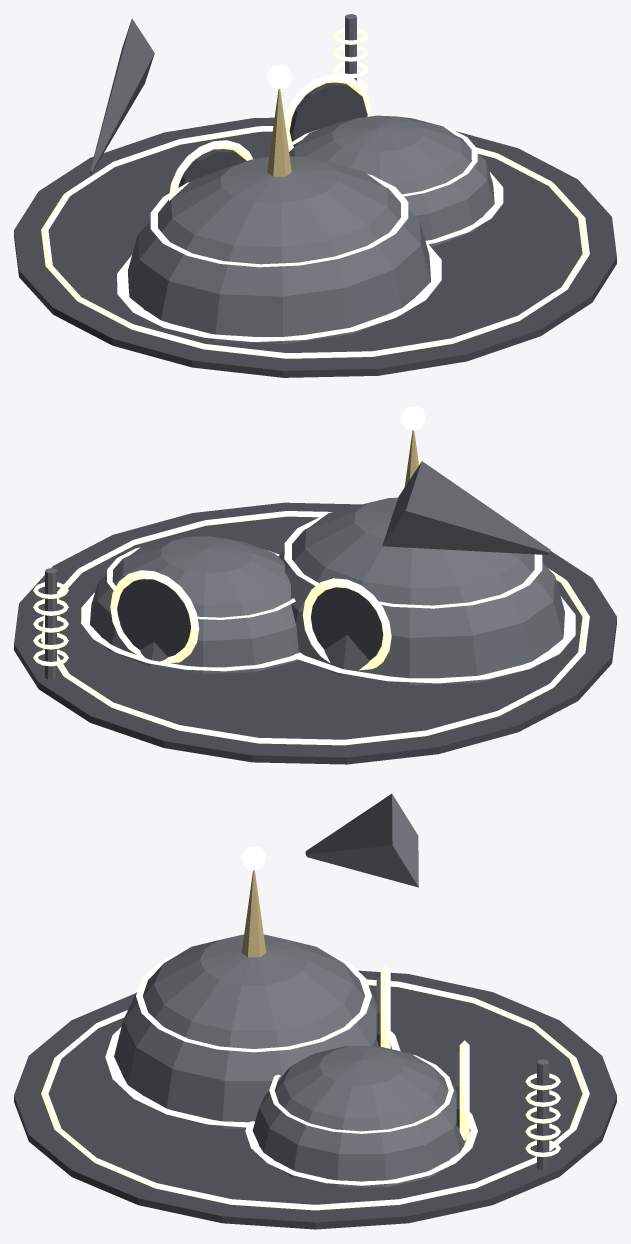
Rendered from zone_low_4_t5.glb.
The picture shows the model from 3 angles, top to bottom: view 1: azimuth 30°, elevation 25°; view 2: azimuth 150°, elevation 25°; view 3: azimuth 270°, elevation 25°; orthographic projection.
Parts seen in each view (by area): view 1: zone_low_4_t5, detail; view 2: zone_low_4_t5, detail; view 3: zone_low_4_t5, detail.
Boxes of the visible parts, x1,y1,x2,y2 form: zone_low_4_t5: (14,18,616,377); detail: (41,14,589,358); zone_low_4_t5: (14,430,616,764); detail: (33,406,589,745); zone_low_4_t5: (14,793,616,1229); detail: (41,846,589,1210).
Bounding box in the file's own units: 19.6 × 9.41 × 19.6.
